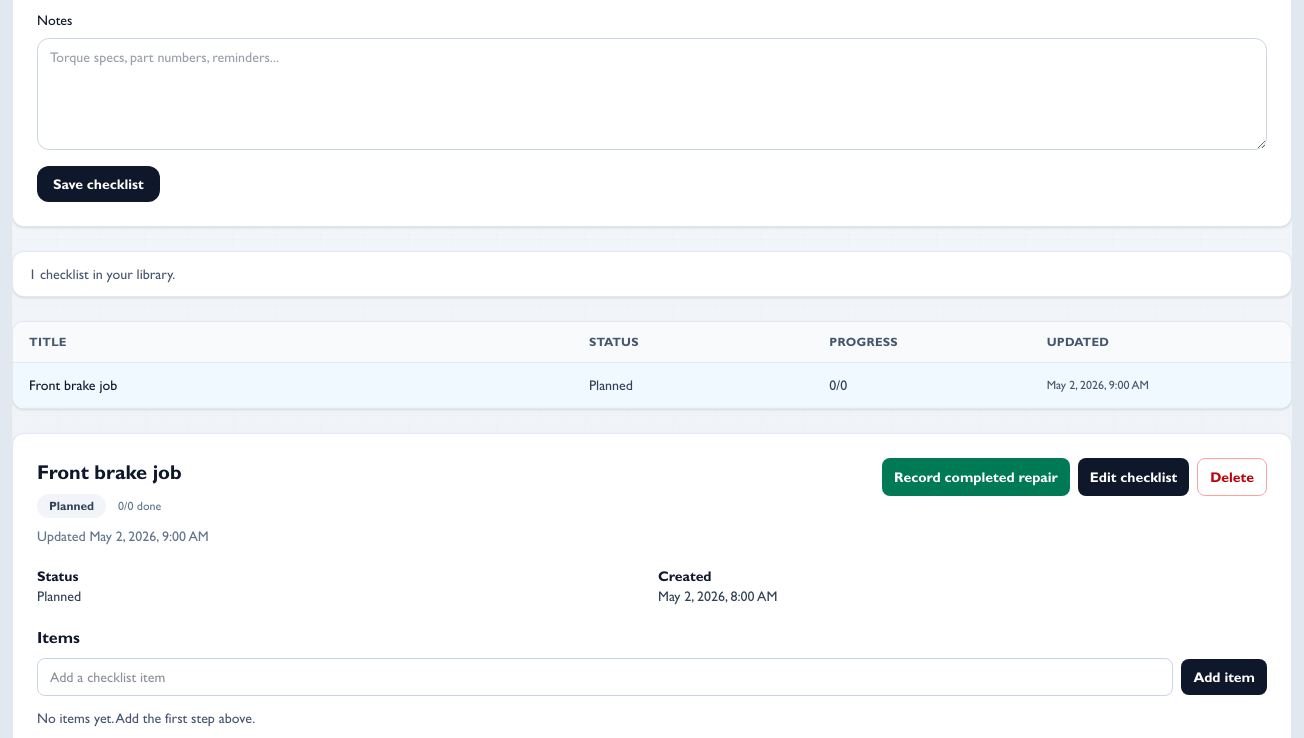
Scenario: the completion form asks only for facts the server cannot derive
(page scrolled)
Check: the heading "Front brake job" is shown, box [37,460,182,484]
Step 1. Click the button "Record completed repair" → (976, 477), box [882,458,1070,496]
(page scrolled)
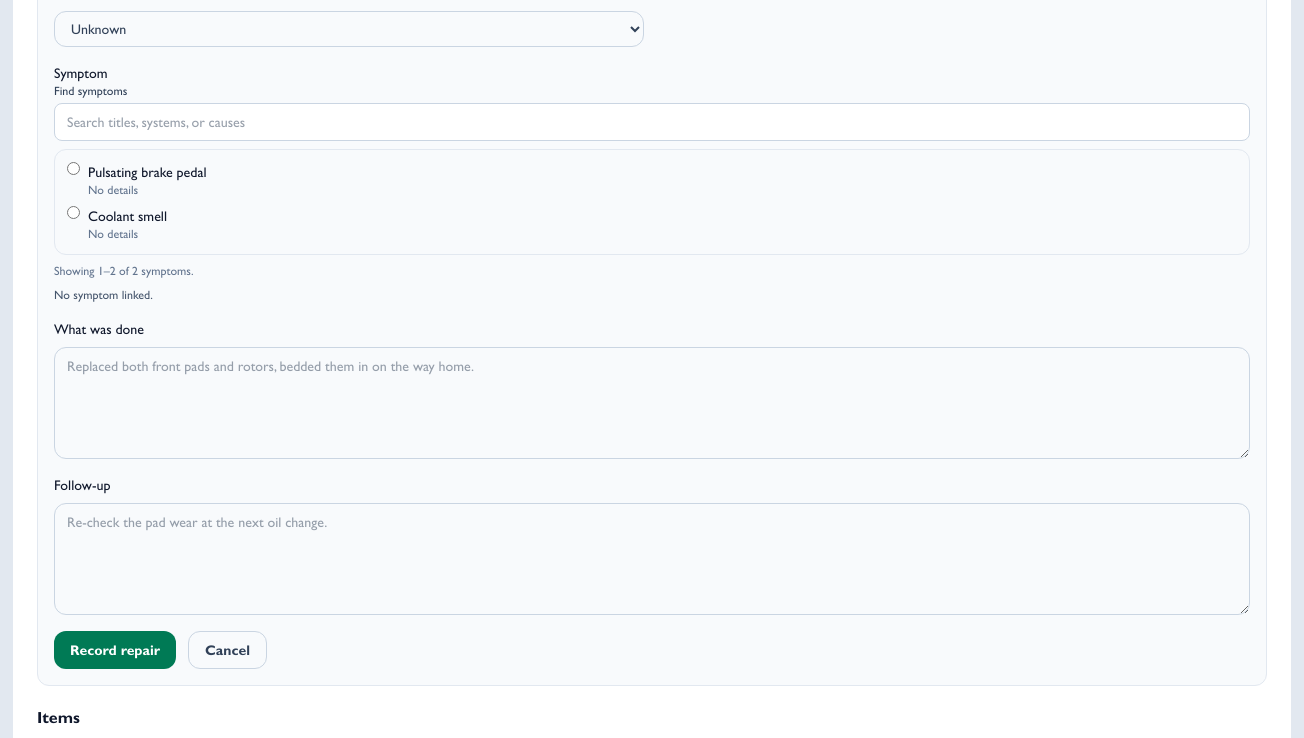
Check: the dropdown labelled "Outcome" is shown, box [54,11,644,47]
Check: the element "Symptom" is shown, box [54,63,1250,303]
Check: the text box labelled "What was done" is shown, box [54,347,1250,459]
